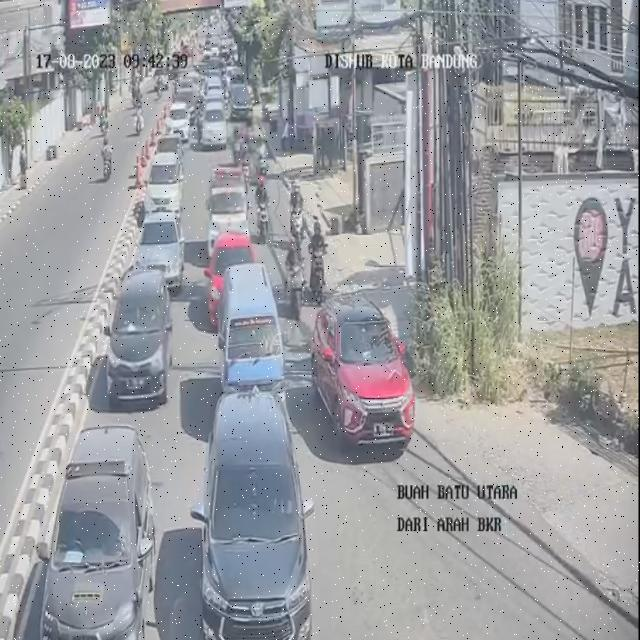cars: (199, 386, 309, 640), (39, 424, 157, 640), (316, 290, 414, 450), (222, 261, 288, 420), (110, 268, 172, 402), (206, 233, 254, 318), (140, 209, 184, 295), (206, 170, 246, 243), (148, 150, 182, 218), (168, 99, 192, 149), (203, 99, 226, 149), (178, 69, 198, 104)
motorcycle: (308, 216, 332, 298), (282, 237, 301, 317), (240, 111, 260, 166), (255, 175, 271, 240), (292, 180, 306, 248), (256, 137, 272, 184), (230, 117, 242, 176)
